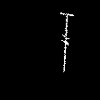treble_crochet: (60, 13, 73, 70)
